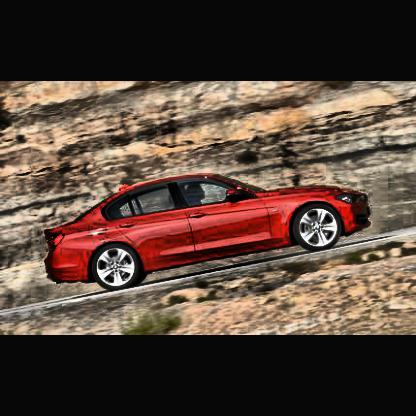BMW 3 Series Sedan 2012: (48, 173, 371, 291)
